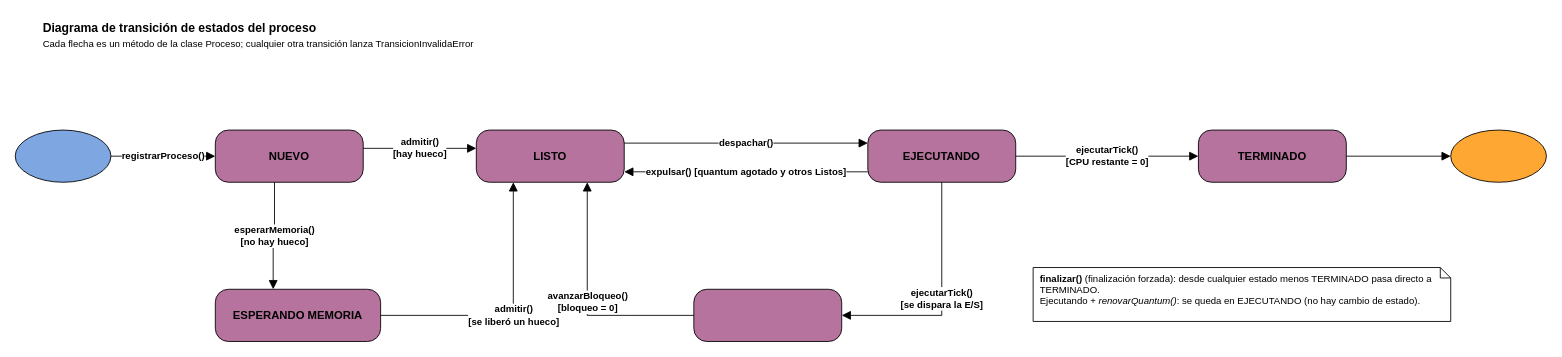
This 1562x357 diagram has some shape labels left out. The box of each missing label's shape, as (x1, y1, x2, y2) in pixels:
BLOQUEADO: (693, 288, 842, 341)
Fin: (1450, 129, 1546, 182)
Inicio: (14, 129, 111, 182)
